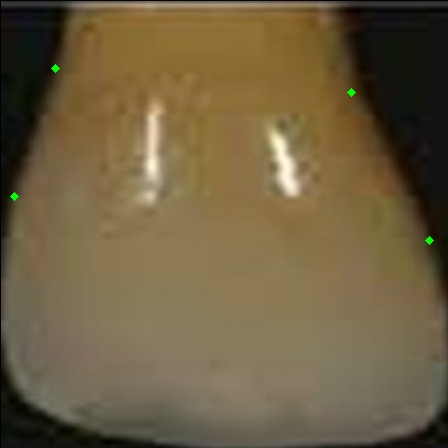coin_1: (351, 92, 371, 112)
coin_2: (429, 240, 448, 261)
coin_3: (55, 68, 75, 88)
coin_4: (14, 196, 34, 216)
